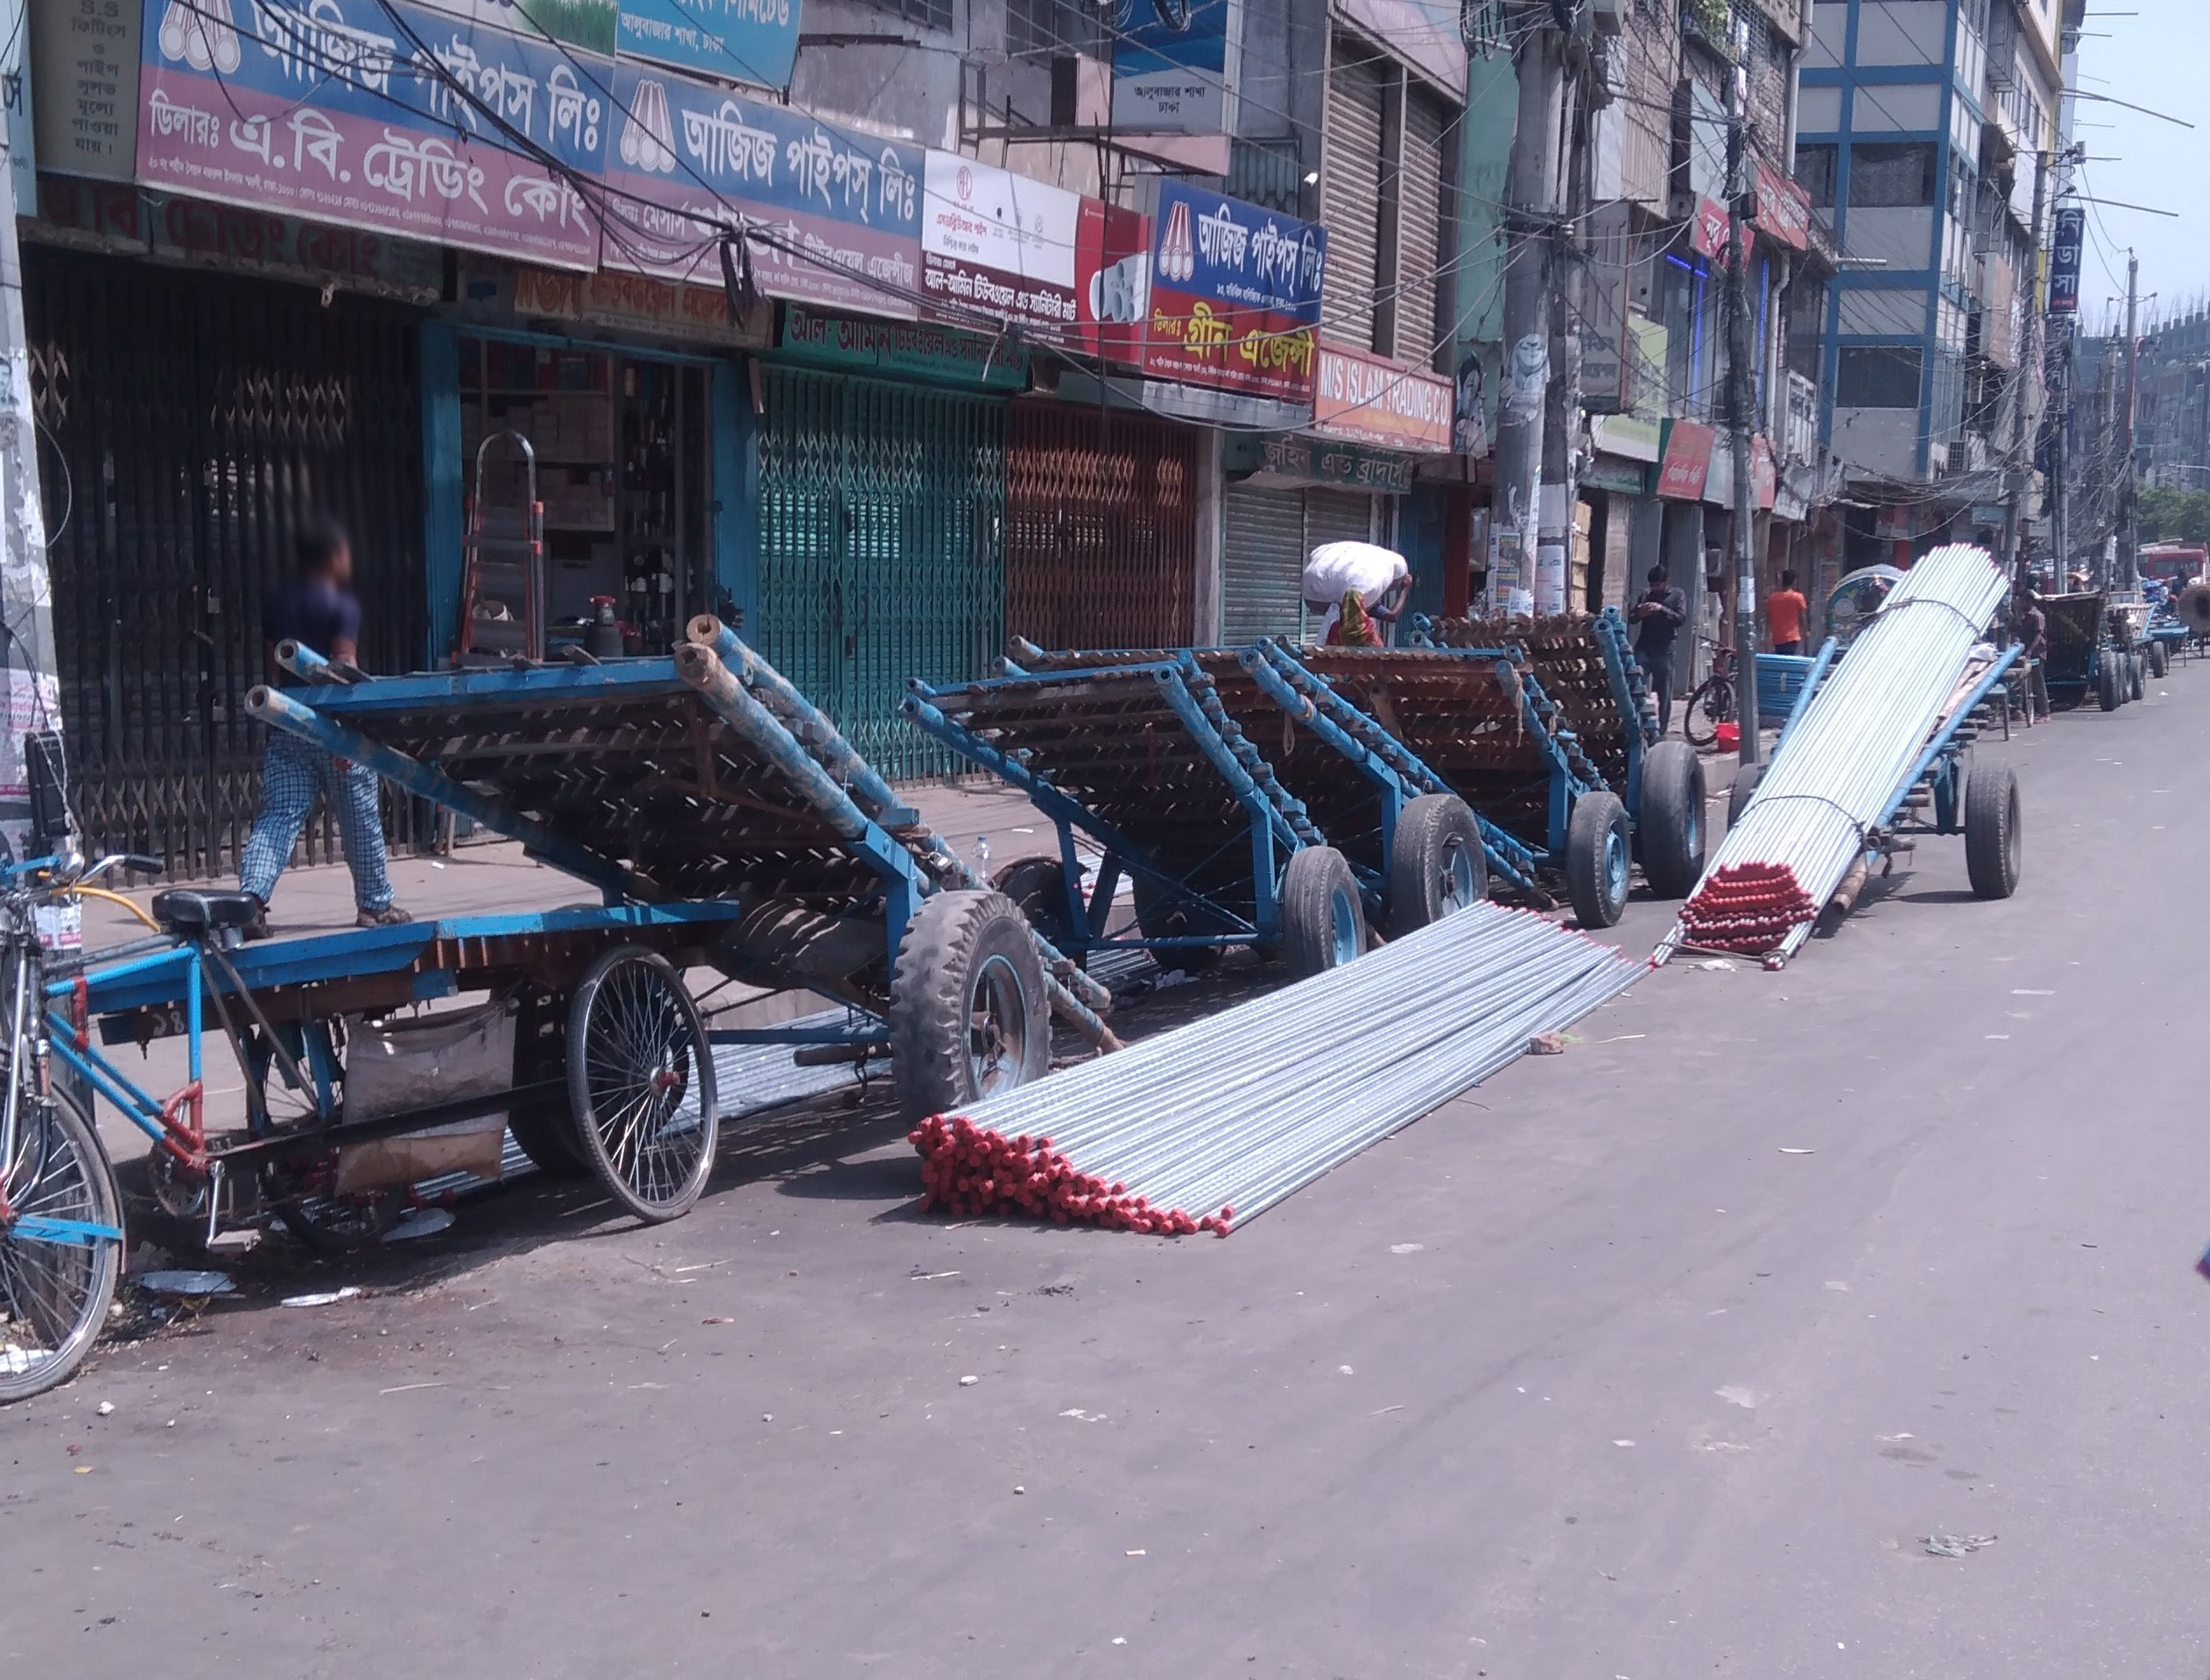van: (0, 817, 786, 1406)
wheelbarrow: (224, 600, 1142, 1129), (983, 605, 1506, 994), (1645, 521, 2062, 972), (874, 639, 1380, 1009), (1282, 602, 1657, 965), (1423, 566, 1709, 884)
